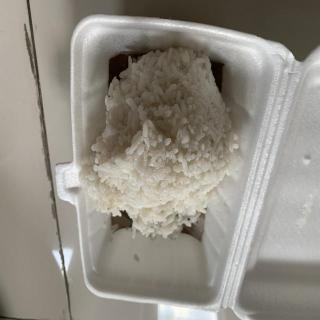Nasi: (78, 50, 234, 238)
